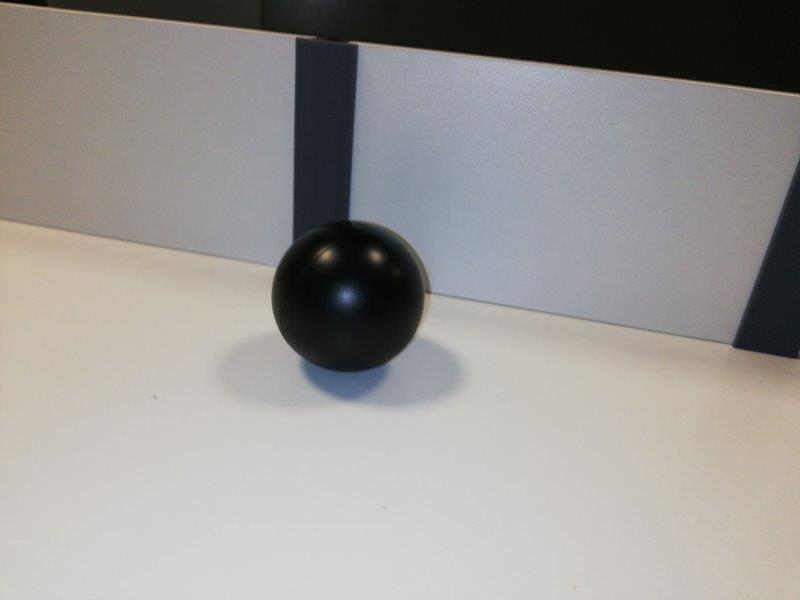nera: (270, 221, 425, 371)
